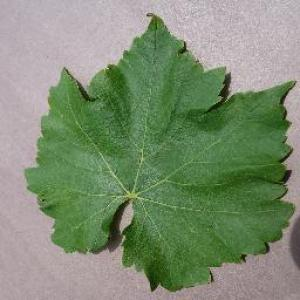Folha: (22, 12, 296, 292)
